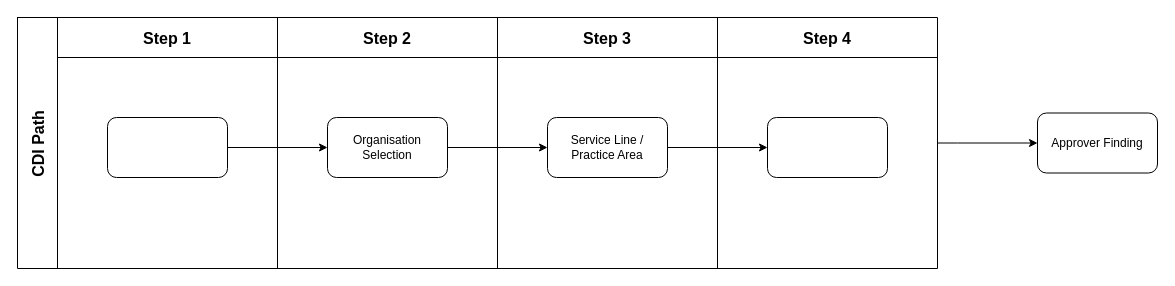
Image size: 1175x286. Some labels were removed from this diagram. Each missing label, with the centre of its shape:
Client Selection: the point at 827,147
Organisation Type Selection: the point at 167,147
